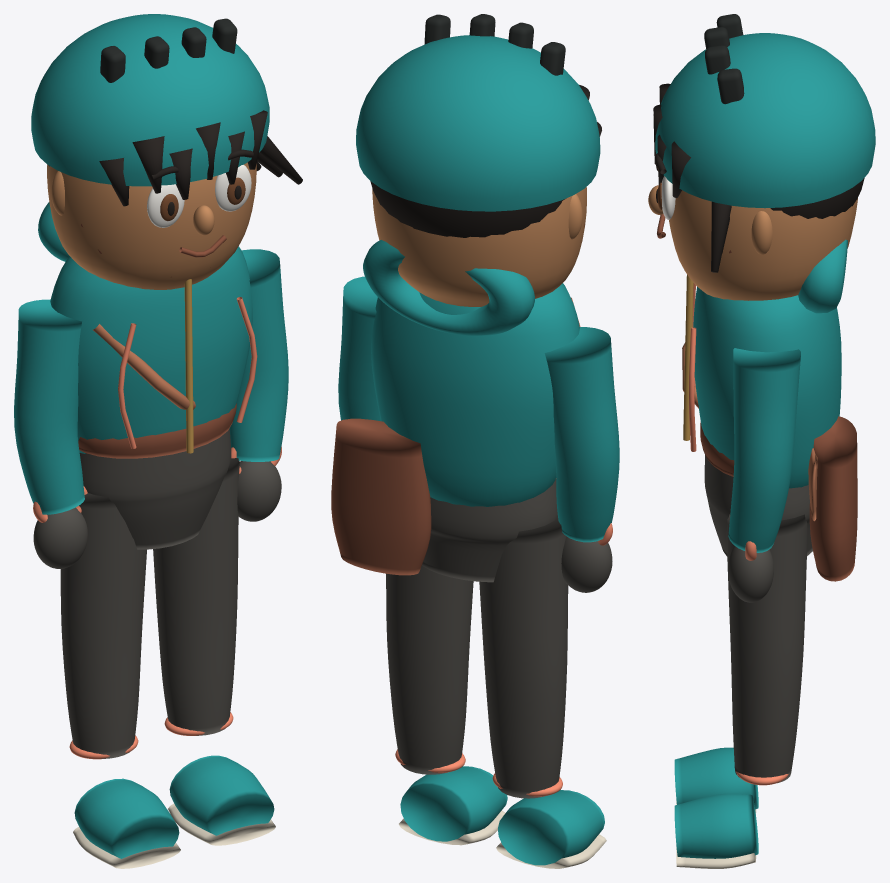
The model's file is kiran.glb.
3 views of the same model, side by side, from view 1: azimuth 30°, elevation 25°; view 2: azimuth 150°, elevation 25°; view 3: azimuth 270°, elevation 25° (orthographic). The views are drawn at different scales.
Visible parts, largest first — view 1: kiran_helmet_shell, kiran_jacket_body, kiran_leg_l, kiran_leg_r, kiran_head, kiran_arm_l, kiran_pelvis, kiran_arm_r, kiran_shoe_r, kiran_shoe_l, kiran_waist_band, kiran_glove_l (+20 smaller); view 2: kiran_helmet_shell, kiran_jacket_body, kiran_leg_l, kiran_leg_r, kiran_satchel, kiran_arm_l, kiran_head, kiran_pelvis, kiran_hood, kiran_shoe_l, kiran_shoe_r, kiran_arm_r (+7 smaller); view 3: kiran_helmet_shell, kiran_jacket_body, kiran_leg_r, kiran_head, kiran_arm_r, kiran_satchel, kiran_shoe_r, kiran_shoe_l, kiran_pelvis, kiran_hood, kiran_glove_r, kiran_hair_cap (+13 smaller).
Part boxes in pixels (x1,y1,x2,y2): kiran_helmet_shell: (31,14,269,186); kiran_jacket_body: (50,246,252,453); kiran_leg_l: (60,493,146,758); kiran_leg_r: (153,458,239,735); kiran_head: (47,162,256,289); kiran_arm_l: (14,299,84,514); kiran_pelvis: (79,428,231,549); kiran_arm_r: (229,249,288,461); kiran_shoe_r: (169,755,274,835); kiran_shoe_l: (74,778,179,858); kiran_waist_band: (78,403,236,458); kiran_glove_l: (33,507,87,568); kiran_helmet_shell: (356,35,600,211); kiran_jacket_body: (371,283,579,506); kiran_leg_l: (479,517,568,798); kiran_leg_r: (386,565,473,774); kiran_satchel: (331,418,431,575); kiran_arm_l: (544,327,619,542); kiran_head: (372,187,586,306); kiran_pelvis: (422,479,557,582); kiran_hood: (363,240,534,335); kiran_shoe_l: (498,790,604,865); kiran_shoe_r: (400,766,507,841); kiran_arm_r: (338,276,380,420); kiran_helmet_shell: (655,33,875,208); kiran_jacket_body: (693,286,841,488); kiran_leg_r: (726,514,807,783); kiran_head: (669,190,857,300); kiran_arm_r: (728,348,800,552); kiran_satchel: (809,416,857,581); kiran_shoe_r: (674,793,758,858); kiran_shoe_l: (674,747,758,809); kiran_pelvis: (704,455,812,556); kiran_hood: (798,239,847,313); kiran_glove_r: (728,546,773,602); kiran_hair_cap: (770,178,864,218).
Bounding box in the file's own units: 1.52 × 4.37 × 1.13.
